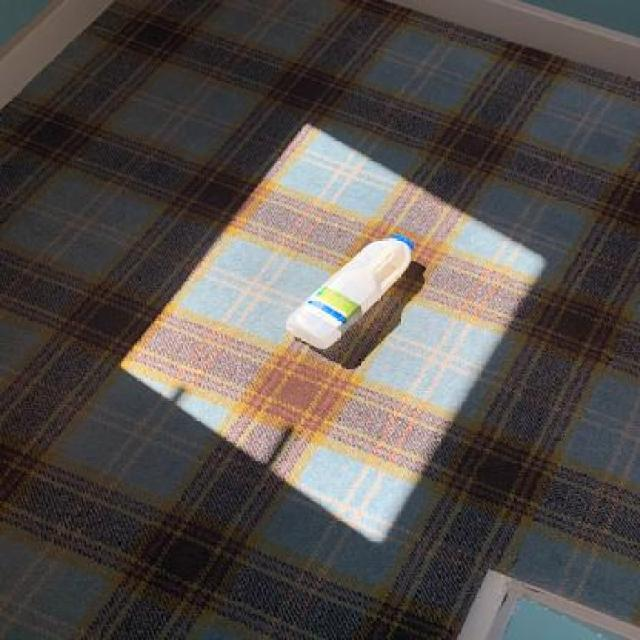trash: (286, 232, 417, 351)
